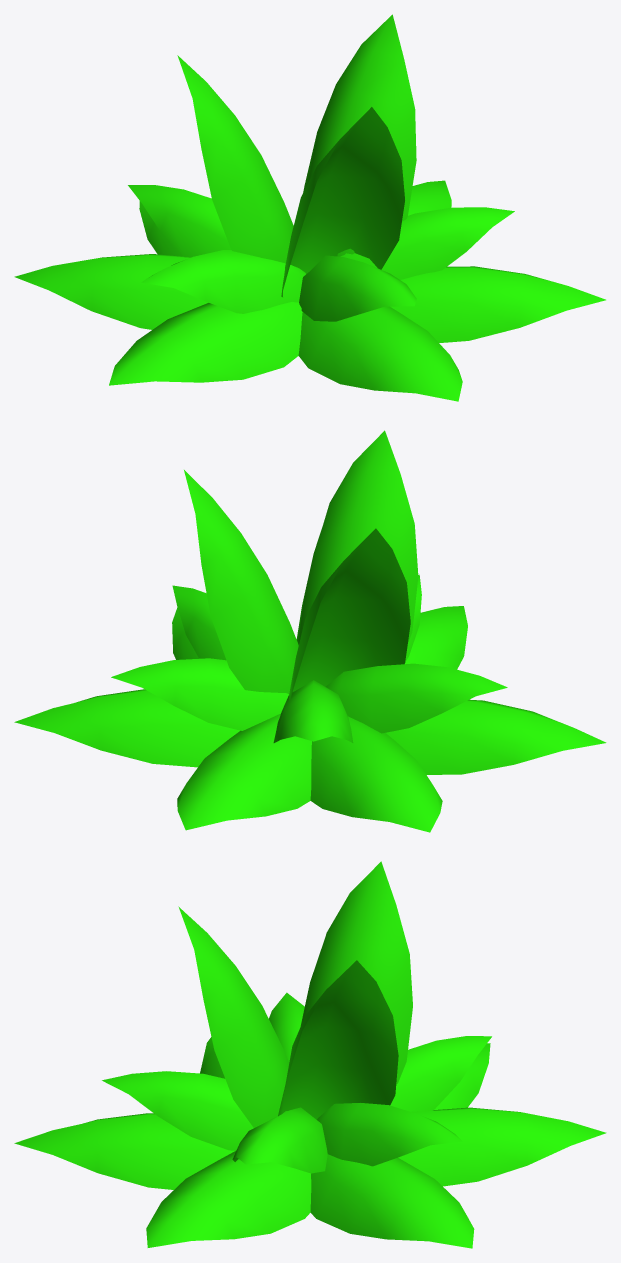
File: plant_00.fbx
The picture shows the model from 3 angles, top to bottom: view 1: azimuth 30°, elevation 25°; view 2: azimuth 150°, elevation 25°; view 3: azimuth 270°, elevation 25°; orthographic projection.
Visible parts, largest first — view 1: Plane003; view 2: Plane003; view 3: Plane003.
Part boxes in pixels (<box>): Plane003: <box>14,14,605,401</box>; Plane003: <box>14,430,606,832</box>; Plane003: <box>14,861,606,1248</box>.
Size of the model in its own units: 50.84 by 27.19 by 56.63.
